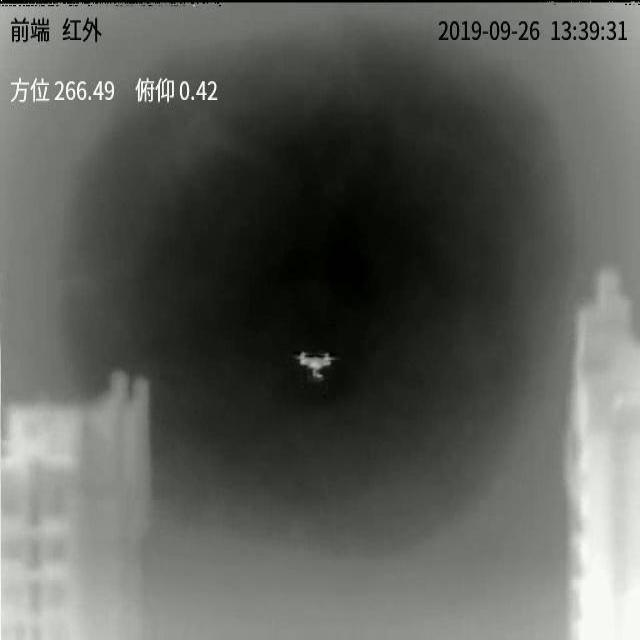drone: (294, 352, 336, 380)
